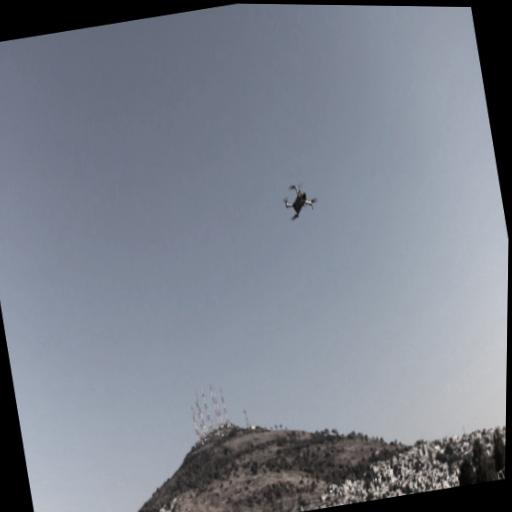drones: (276, 176, 322, 227)
